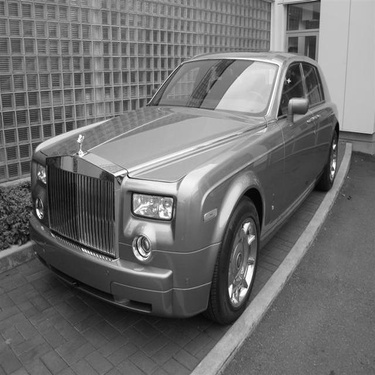car: (16, 43, 362, 310)
